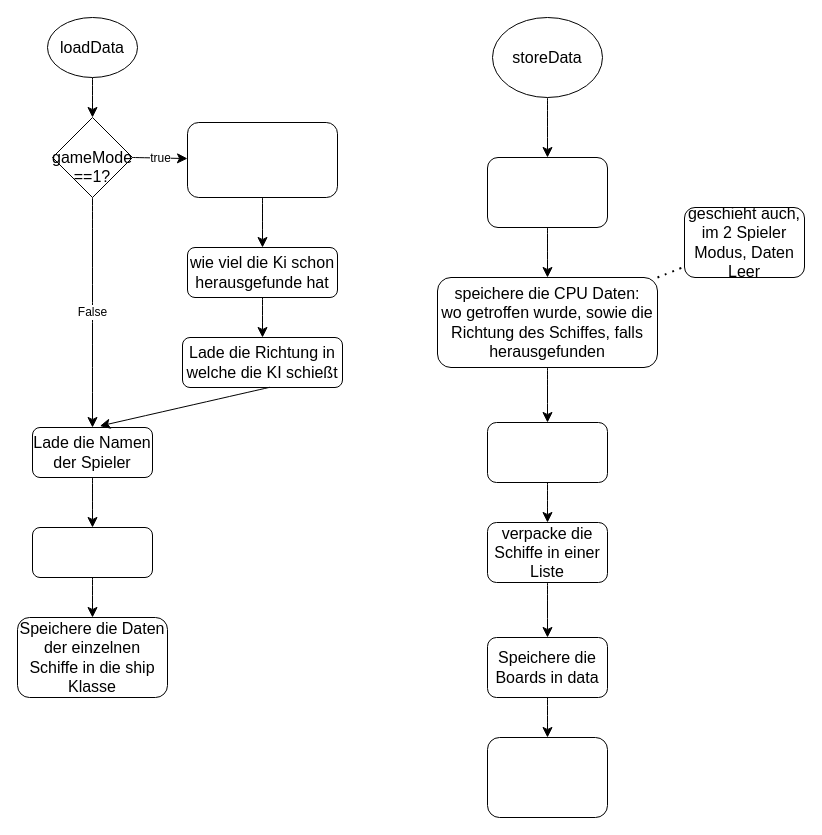
The diagram is 822 pixels wide and 835 high, and some of its shapes have lost their labels. The box of each missing label's shape, as (x1, y1, x2, y2) in pixels:
lade die Koordinaten, auf der die KI einen Treffer gelandet hat: (186, 122, 338, 198)
Lade die Schiffe der Spieler: (32, 526, 152, 578)
setze das Speicherungs- Statusbit auf wahr: (486, 736, 608, 818)
Speichere die einzelnen schiffe in das Dictionairy data: (486, 156, 608, 228)
Speichere die Spielernamen: (486, 422, 608, 482)
